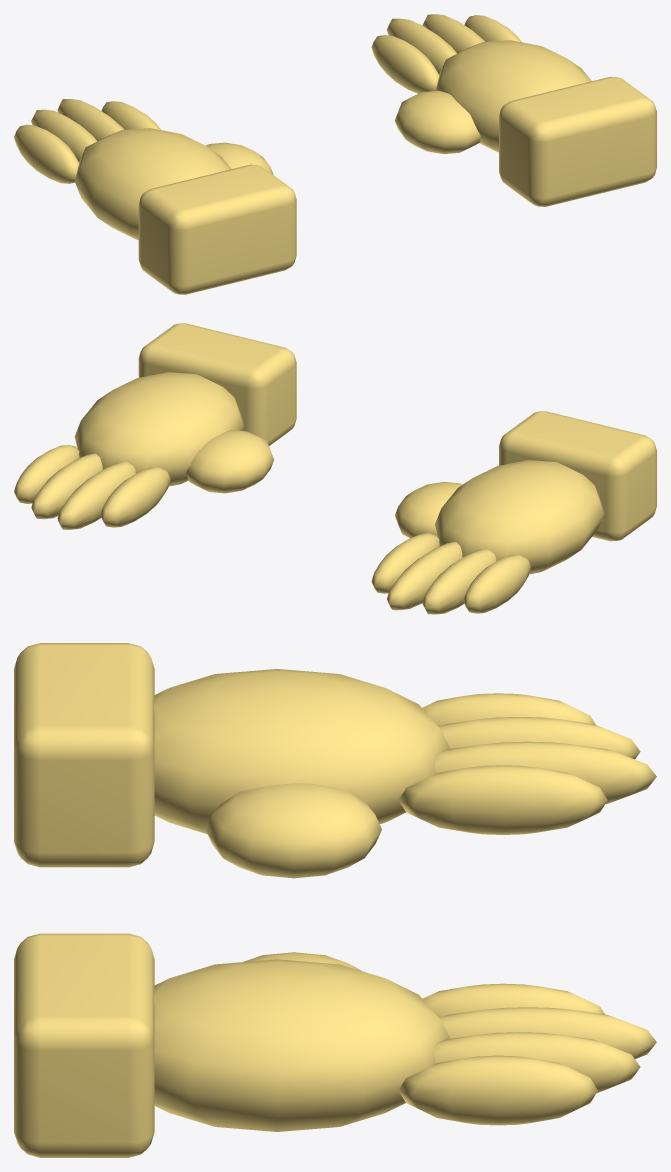
The model's file is hands.glb.
3 views of the same model, one above another, from view 1: azimuth 30°, elevation 25°; view 2: azimuth 150°, elevation 25°; view 3: azimuth 270°, elevation 25° (orthographic). The views are drawn at different scales.
Visible parts, largest first — view 1: Hand_R, Hand_L; view 2: Hand_R, Hand_L; view 3: Hand_L, Hand_R.
Part boxes in pixels (x1,y1,x2,y2): Hand_R: (371,14,656,206); Hand_L: (14,99,296,294); Hand_R: (14,323,296,529); Hand_L: (371,411,656,614); Hand_L: (14,643,656,878); Hand_R: (14,933,656,1157).
Size of the model in its own units: 0.288 by 0.047 by 0.1965.
